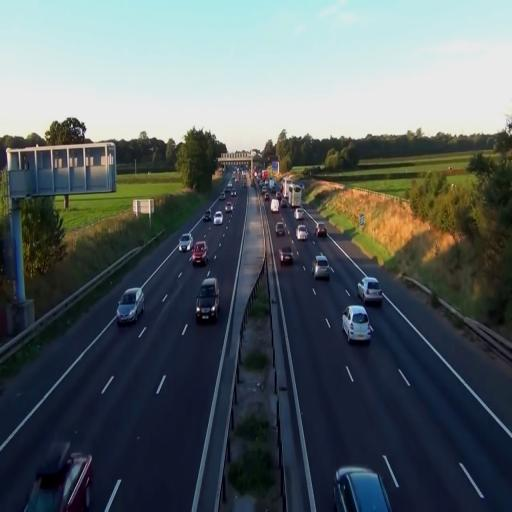vehicle: (24, 443, 94, 512), (334, 466, 392, 512), (342, 304, 372, 344), (195, 277, 220, 323), (117, 286, 144, 323), (357, 276, 383, 309), (312, 254, 332, 281), (191, 239, 208, 267), (279, 244, 296, 266), (178, 234, 192, 252), (295, 223, 308, 242), (214, 210, 222, 224), (204, 210, 212, 222)
